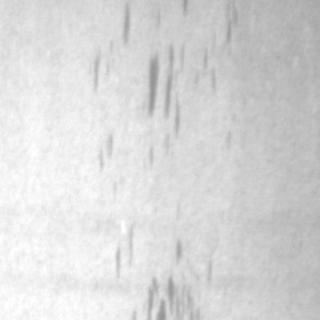inclusion: (132, 235, 208, 318), (133, 37, 193, 137), (90, 122, 126, 176)
